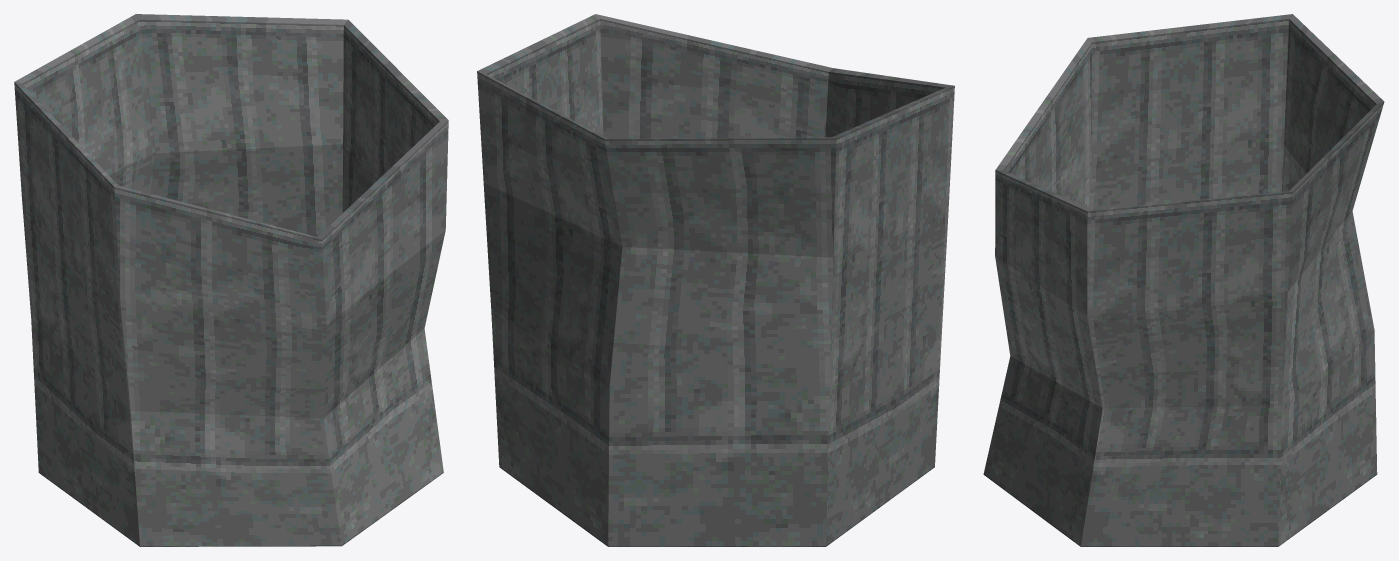
File: metaltrashcan_beaten.glb
3 views of the same model, side by side, from view 1: azimuth 30°, elevation 25°; view 2: azimuth 150°, elevation 25°; view 3: azimuth 270°, elevation 25° (orthographic). The views are drawn at different scales.
Visible parts, largest first — view 1: metaltrashcan_beaten; view 2: metaltrashcan_beaten; view 3: metaltrashcan_beaten.
Part boxes in pixels (left/top/right/bottom): metaltrashcan_beaten: left=14, top=14, right=448, bottom=546; metaltrashcan_beaten: left=477, top=14, right=954, bottom=546; metaltrashcan_beaten: left=983, top=14, right=1384, bottom=546.
Bounding box in the file's own units: 0.7373 × 0.8092 × 0.7736.
1 material, 1 textured.
